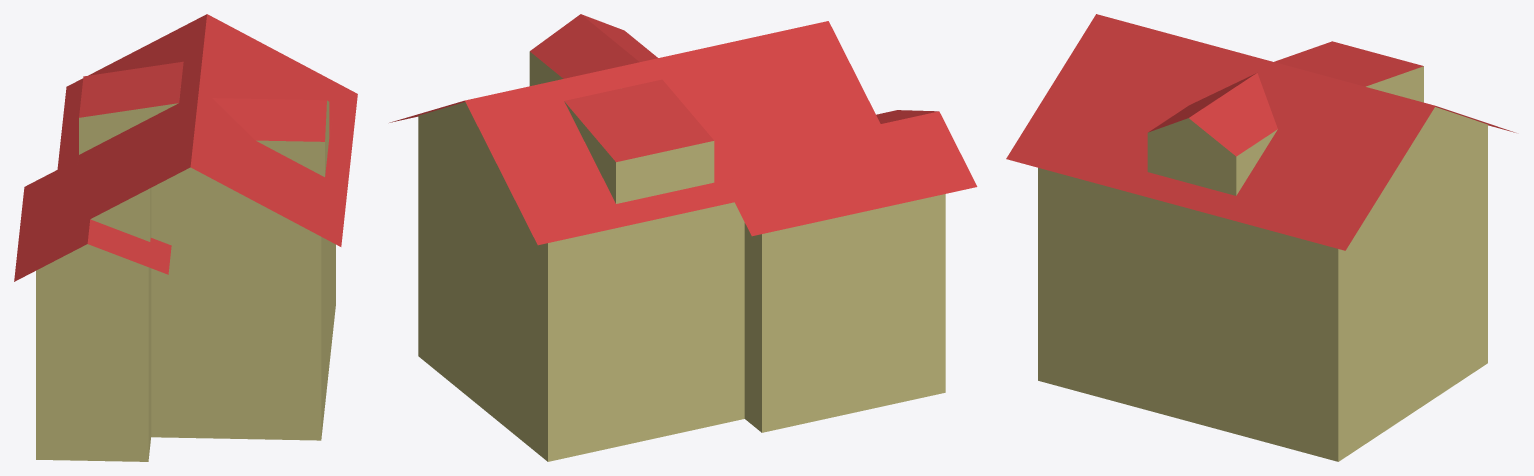
3 views of the same model, side by side, from view 1: azimuth 30°, elevation 25°; view 2: azimuth 150°, elevation 25°; view 3: azimuth 270°, elevation 25° (orthographic). The views are drawn at different scales.
Visible parts, largest first — view 1: group_9, group_3, group_13, group_6, group_4, group_8, group_11, group_7, group_5; view 2: group_9, group_3, group_6, group_7, group_4, group_8, group_5; view 3: group_9, group_3, group_5, group_4, group_8, group_6, group_7.
Part boxes in pixels (x1=…): group_9: x1=36, y1=167, x2=335, y2=460; group_3: x1=14, y1=14, x2=357, y2=281; group_13: x1=88, y1=244, x2=150, y2=461; group_6: x1=79, y1=61, x2=183, y2=117; group_4: x1=212, y1=98, x2=326, y2=141; group_8: x1=16, y1=14, x2=357, y2=277; group_11: x1=87, y1=219, x2=171, y2=274; group_7: x1=79, y1=103, x2=178, y2=154; group_5: x1=256, y1=100, x2=329, y2=176; group_9: x1=418, y1=102, x2=945, y2=461; group_3: x1=389, y1=21, x2=977, y2=245; group_6: x1=564, y1=79, x2=713, y2=162; group_7: x1=564, y1=101, x2=714, y2=203; group_4: x1=530, y1=14, x2=657, y2=78; group_8: x1=398, y1=21, x2=975, y2=242; group_5: x1=529, y1=51, x2=562, y2=85; group_9: x1=1038, y1=107, x2=1487, y2=461; group_3: x1=1006, y1=14, x2=1515, y2=250; group_5: x1=1147, y1=118, x2=1277, y2=195; group_4: x1=1148, y1=73, x2=1277, y2=156; group_8: x1=1006, y1=14, x2=1508, y2=249; group_6: x1=1274, y1=41, x2=1423, y2=86; group_7: x1=1366, y1=66, x2=1423, y2=102.
Size of the model in its own units: 17.91 by 16.56 by 11.03.
